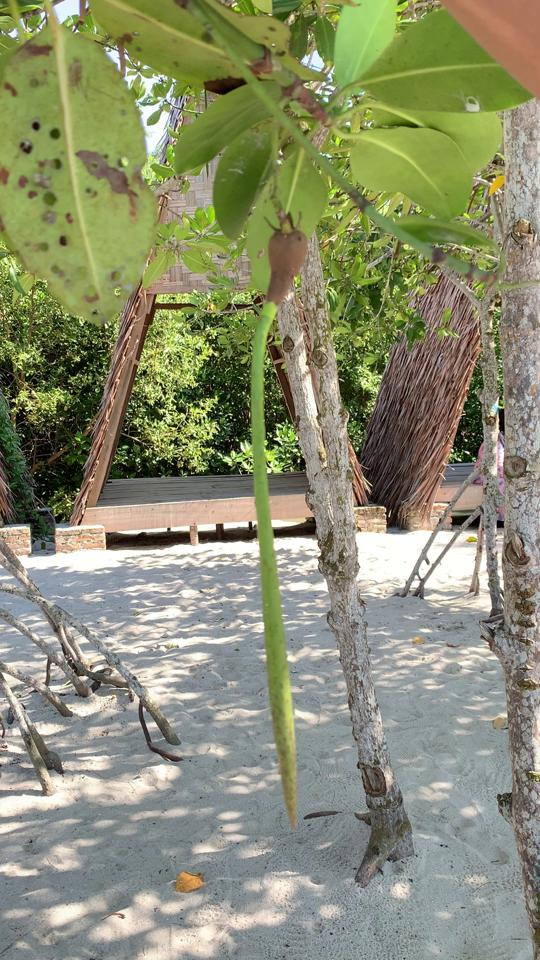setengah matang: (239, 203, 339, 836)
